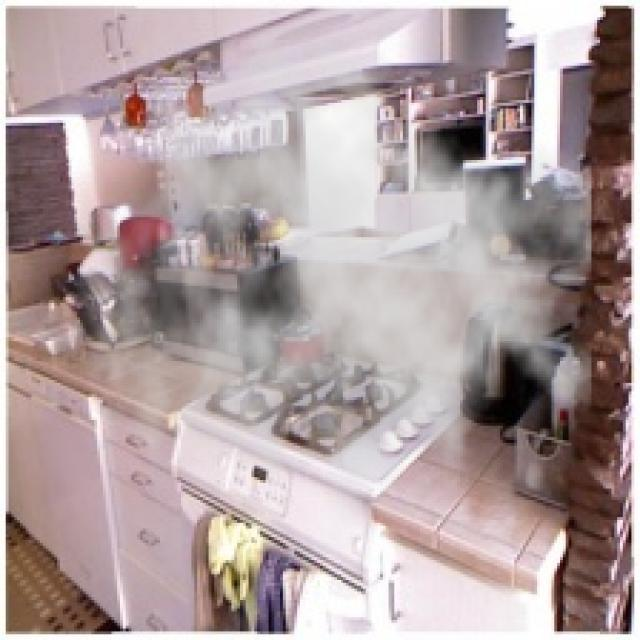Smoke: (71, 22, 592, 554)
